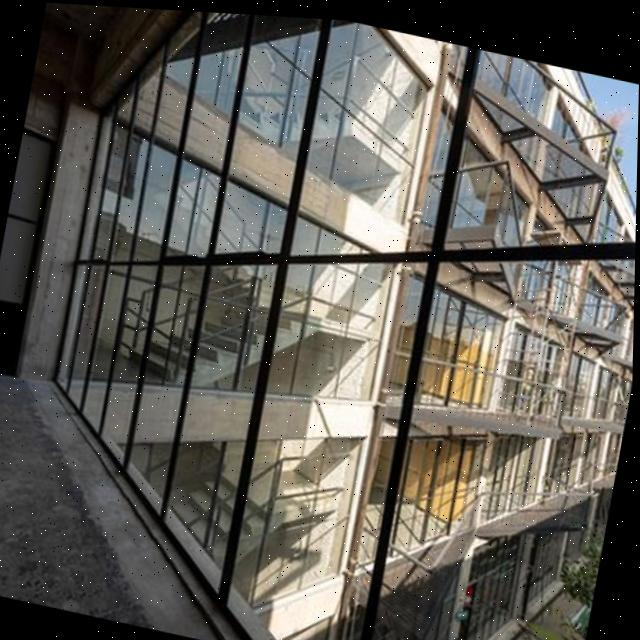building: (39, 3, 640, 640)
